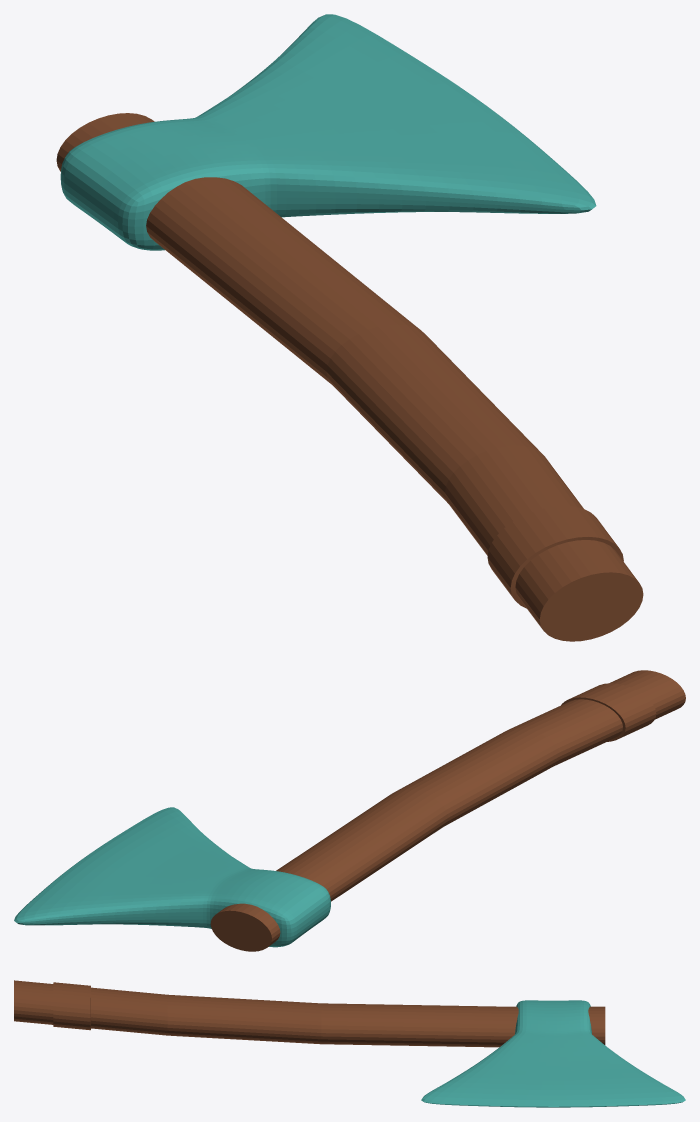
Rendered from Diamond Axe.fbx.
The picture shows the model from 3 angles, top to bottom: view 1: azimuth 30°, elevation 25°; view 2: azimuth 150°, elevation 25°; view 3: azimuth 270°, elevation 25°; orthographic projection. The views are drawn at different scales.
Visible parts, largest first — view 1: Cylinder, Cube; view 2: Cylinder, Cube; view 3: Cylinder, Cube.
Boxes of the visible parts, x1,y1,x2,y2 form: Cylinder: (56, 113, 643, 641); Cube: (60, 14, 596, 250); Cylinder: (210, 670, 685, 951); Cube: (14, 807, 330, 947); Cylinder: (14, 980, 605, 1047); Cube: (421, 1000, 685, 1107).
Bounding box in the file's own units: 729 × 107 × 1744.
